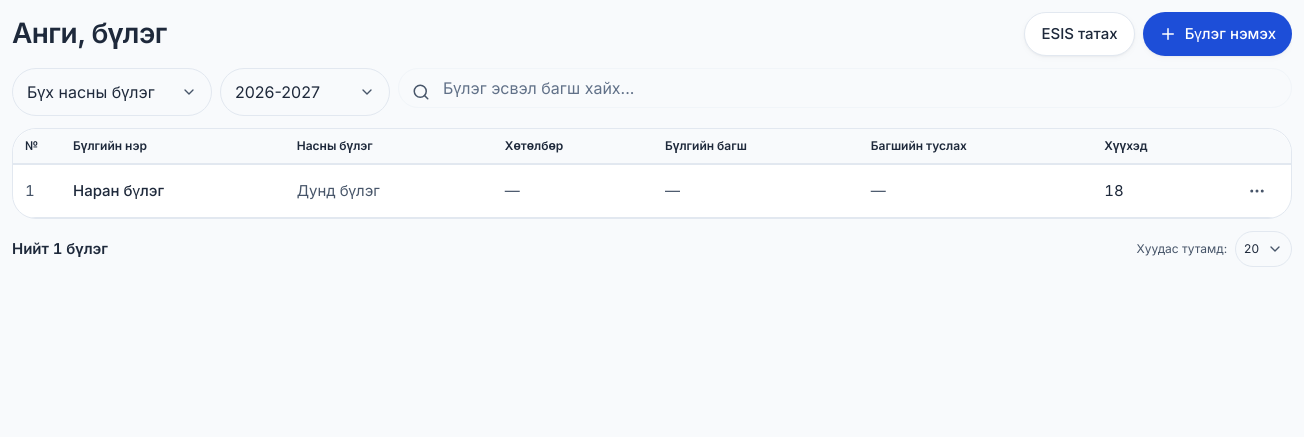
Scenario: the group list › offers the four row actions
This screenshot has width=1304, height=437.
Click the button named "Наран бүлэг — үйлдэл": (1257, 191) [1235, 169, 1279, 213]
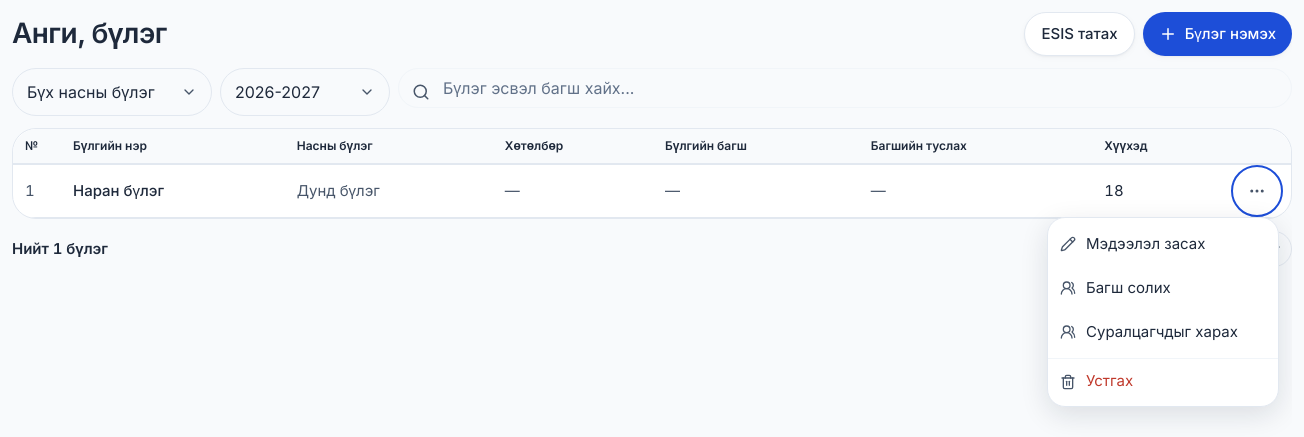
Now the menu item "Мэдээлэл засах" is shown, box [1048, 222, 1278, 266]
Now the menu item "Багш солих" is shown, box [1048, 266, 1278, 310]
Now the menu item "Суралцагчдыг харах" is shown, box [1060, 322, 1238, 341]
